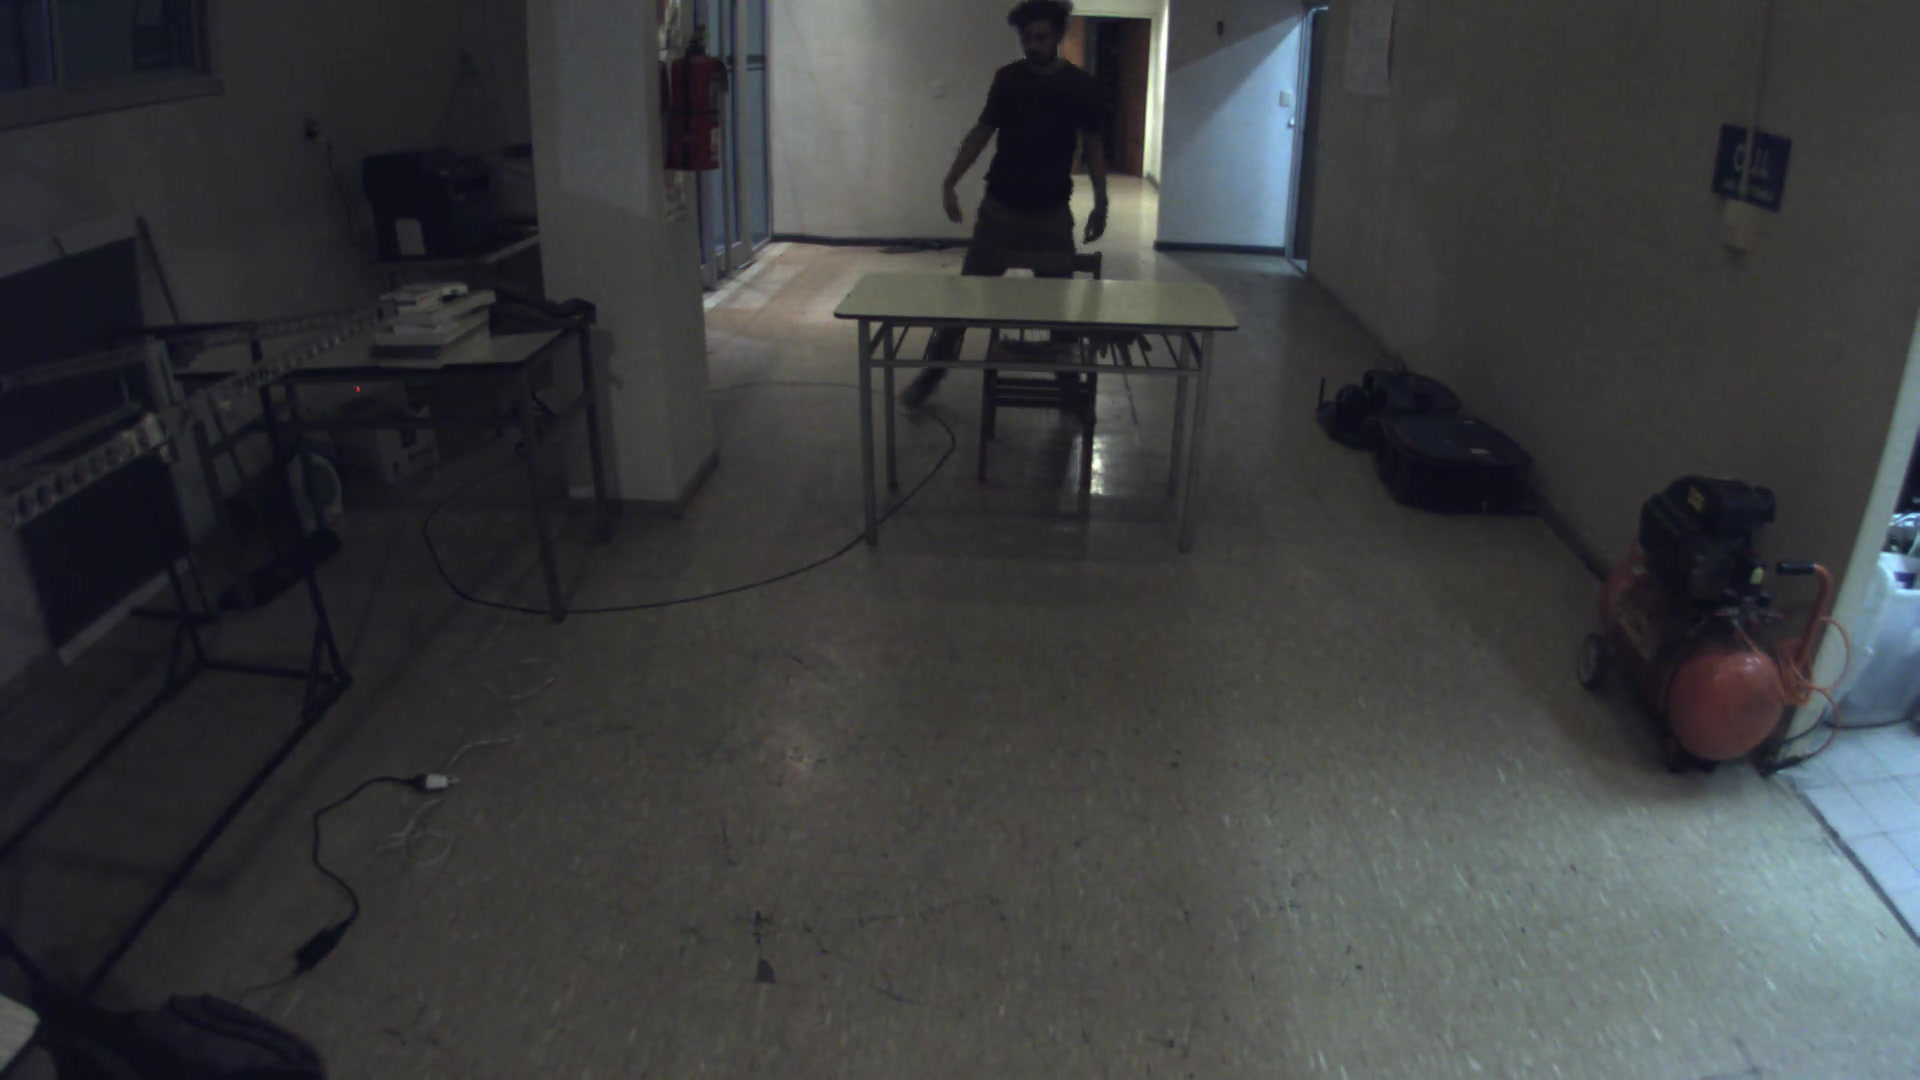hand: (926, 175, 981, 229), (1071, 193, 1124, 249)
